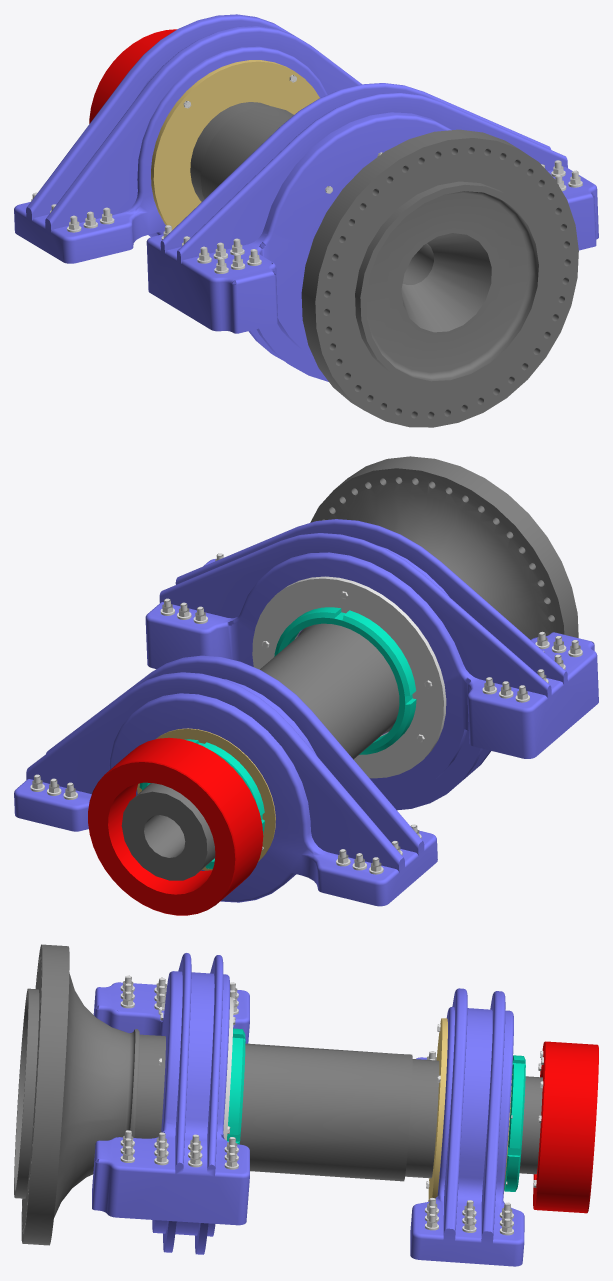
3 views of the same model, one above another, from view 1: azimuth 30°, elevation 25°; view 2: azimuth 150°, elevation 25°; view 3: azimuth 270°, elevation 25° (orthographic).
Parts seen in each view (by area): view 1: _0C6E641F3DC18749666DF3C59C03E7384C05AFCA___712DC8AAAFF_2243, blue_pivot, blue_pivot_1, front_holder, red_pivot, _0r1c_pices, _1r1c_pices; view 2: blue_pivot, blue_pivot_1, _0C6E641F3DC18749666DF3C59C03E7384C05AFCA___712DC8AAAFF_2243, red_pivot, gray_hole, _0C6E641F3DC18749666DF3C59C03E7384C05AFCA___443EE3A40CC_0c4a, back_holder, _0r1c_pices, _0C6E641F3DC18749666DF3C59C03E7384C05AFCA___2252D0CB47C_10dd, _1r1c_pices, _0r0c_pices; view 3: _0C6E641F3DC18749666DF3C59C03E7384C05AFCA___712DC8AAAFF_2243, blue_pivot, blue_pivot_1, red_pivot, _0C6E641F3DC18749666DF3C59C03E7384C05AFCA___2252D0CB47C_10dd, _0r0c_pices, _0C6E641F3DC18749666DF3C59C03E7384C05AFCA___443EE3A40CC_0c4a, front_holder, _1r0c_pices, _0r1c_pices, gray_hole.
Boxes of the visible parts, bbox=[...] form: _0C6E641F3DC18749666DF3C59C03E7384C05AFCA___712DC8AAAFF_2243: bbox=[190, 102, 578, 427]; blue_pivot: bbox=[146, 83, 598, 381]; blue_pivot_1: bbox=[14, 14, 361, 263]; front_holder: bbox=[151, 60, 319, 230]; red_pivot: bbox=[89, 29, 176, 123]; _0r1c_pices: bbox=[161, 225, 261, 273]; _1r1c_pices: bbox=[31, 192, 114, 232]; blue_pivot: bbox=[145, 519, 598, 810]; blue_pivot_1: bbox=[14, 655, 437, 906]; _0C6E641F3DC18749666DF3C59C03E7384C05AFCA___712DC8AAAFF_2243: bbox=[121, 456, 578, 880]; red_pivot: bbox=[88, 737, 263, 915]; gray_hole: bbox=[252, 576, 446, 778]; _0C6E641F3DC18749666DF3C59C03E7384C05AFCA___443EE3A40CC_0c4a: bbox=[274, 607, 416, 754]; back_holder: bbox=[137, 728, 275, 870]; _0r1c_pices: bbox=[482, 631, 582, 702]; _0C6E641F3DC18749666DF3C59C03E7384C05AFCA___2252D0CB47C_10dd: bbox=[139, 739, 264, 868]; _1r1c_pices: bbox=[336, 824, 421, 874]; _0r0c_pices: bbox=[160, 553, 223, 623]; _0C6E641F3DC18749666DF3C59C03E7384C05AFCA___712DC8AAAFF_2243: bbox=[14, 944, 542, 1245]; blue_pivot: bbox=[92, 953, 249, 1254]; blue_pivot_1: bbox=[410, 988, 524, 1266]; red_pivot: bbox=[533, 1041, 598, 1213]; _0C6E641F3DC18749666DF3C59C03E7384C05AFCA___2252D0CB47C_10dd: bbox=[504, 1055, 525, 1191]; _0r0c_pices: bbox=[120, 1130, 238, 1169]; _0C6E641F3DC18749666DF3C59C03E7384C05AFCA___443EE3A40CC_0c4a: bbox=[227, 1028, 245, 1144]; front_holder: bbox=[428, 1018, 447, 1201]; _1r0c_pices: bbox=[425, 1197, 513, 1235]; _0r1c_pices: bbox=[120, 975, 238, 1014]; gray_hole: bbox=[223, 997, 233, 1140].
Bounding box in the file's own units: 235 × 166 × 311.
